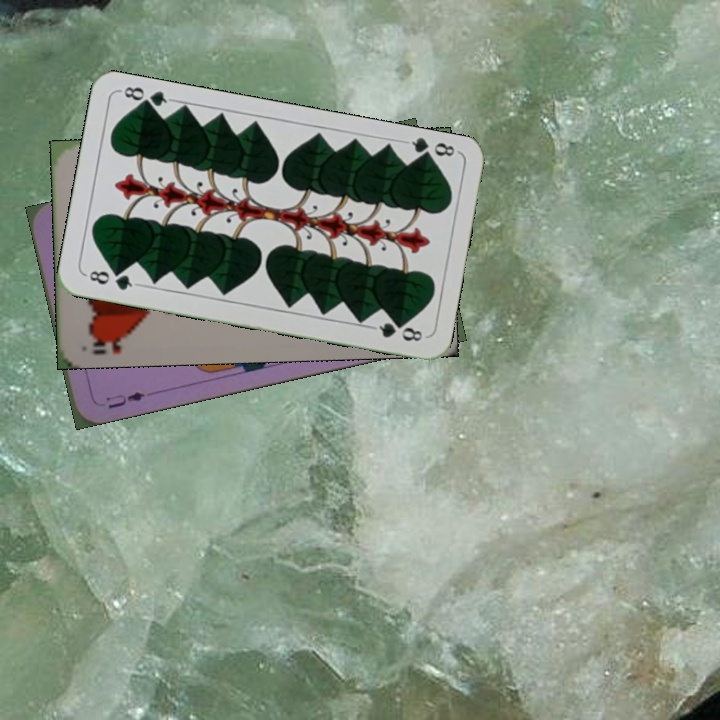EU: (102, 387, 147, 411)
G8: (401, 134, 460, 165), (82, 266, 141, 293)
HO: (85, 331, 136, 357)
